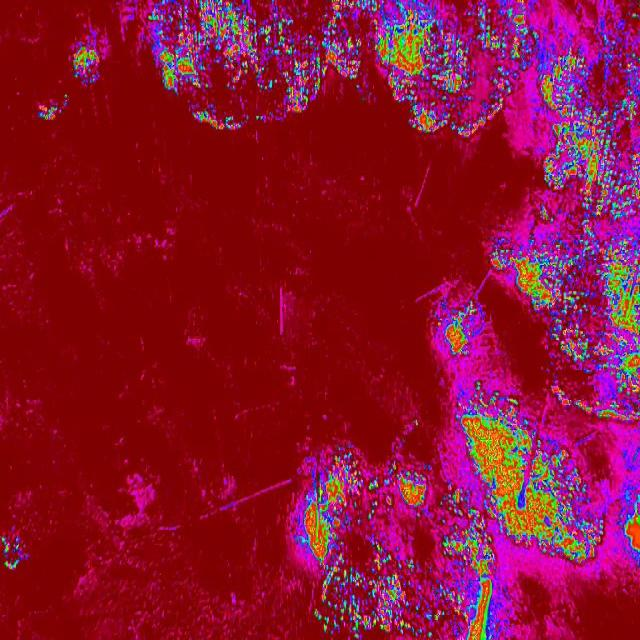fire: (299, 452, 504, 640), (376, 0, 640, 136), (456, 384, 606, 567), (141, 0, 321, 130), (497, 226, 640, 310), (547, 311, 640, 423), (533, 134, 640, 227), (421, 295, 498, 365), (322, 0, 378, 96), (616, 494, 640, 570), (70, 41, 104, 90), (36, 91, 70, 122)
